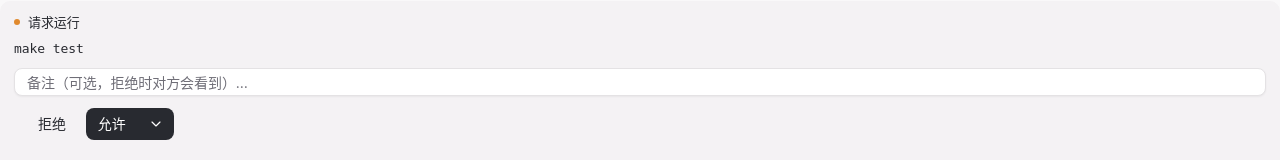
Test: ApprovalCard › explains a lost race
Click the button "拒绝" at (52, 124), box [26, 108, 78, 140]
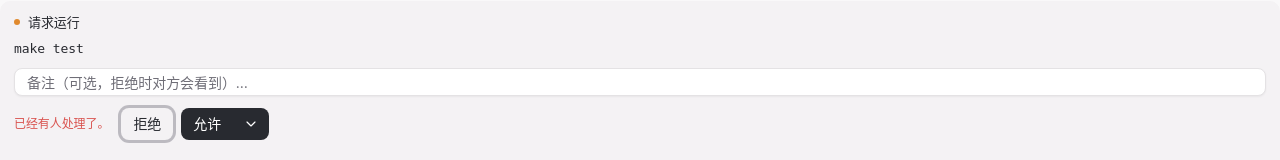
Now the text "已经有人处理了。" is shown, box [14, 116, 109, 131]
